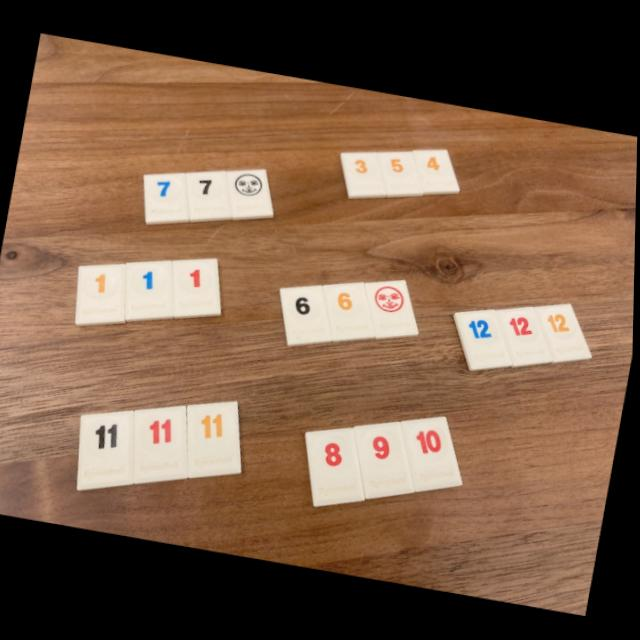black_11: (79, 411, 135, 489)
black_6: (282, 285, 333, 345)
black_7: (187, 170, 233, 222)
blue_1: (126, 260, 175, 321)
blue_12: (456, 309, 513, 370)
blue_7: (146, 172, 191, 224)
joker: (366, 280, 419, 337), (227, 168, 274, 219)
orange_1: (76, 264, 127, 325)
orange_11: (188, 401, 243, 476)
orange_12: (536, 303, 593, 361)
orange_3: (341, 151, 388, 198)
orange_4: (414, 148, 460, 193)
orange_5: (378, 151, 424, 197)
orange_6: (324, 281, 376, 341)
red_1: (174, 259, 222, 318)
red_10: (402, 416, 464, 490)
red_11: (136, 406, 190, 482)
red_12: (498, 305, 553, 366)
red_8: (307, 427, 367, 506)
red_9: (356, 421, 417, 498)
